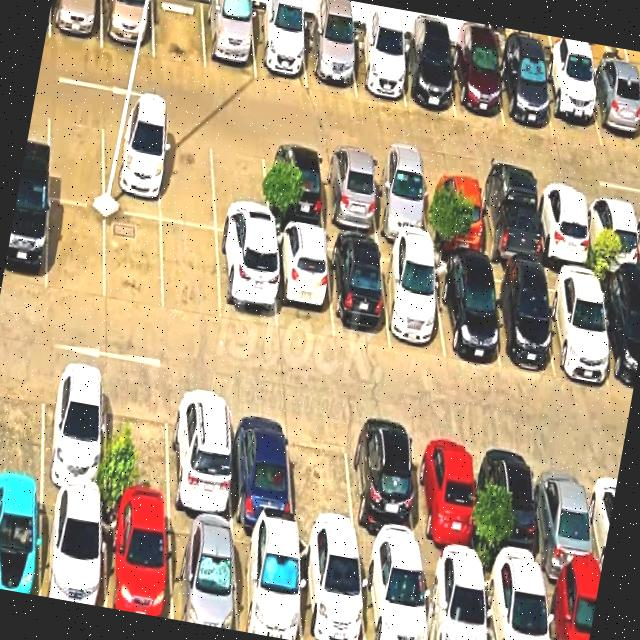empty: (288, 410, 356, 545), (106, 375, 170, 513), (211, 133, 268, 239), (47, 199, 105, 300), (161, 221, 220, 320), (160, 124, 215, 228), (106, 211, 162, 313), (48, 103, 103, 206), (0, 356, 43, 487), (153, 0, 205, 68)
occupied: (346, 420, 419, 556), (411, 429, 477, 567), (534, 449, 599, 584), (41, 362, 104, 500), (169, 386, 232, 523), (229, 398, 293, 531), (482, 439, 543, 575), (168, 515, 237, 630), (104, 503, 171, 619), (543, 270, 611, 384), (233, 527, 301, 640), (432, 257, 499, 368), (40, 491, 104, 607), (379, 246, 444, 358), (485, 265, 553, 372), (298, 537, 365, 640), (327, 236, 389, 345), (272, 227, 332, 338), (102, 113, 160, 219), (359, 550, 427, 640), (476, 177, 540, 268), (216, 233, 276, 330), (263, 142, 324, 231), (421, 558, 487, 640), (423, 168, 484, 256), (369, 158, 429, 244), (540, 62, 601, 146), (319, 151, 378, 237), (534, 185, 592, 271), (597, 278, 640, 394), (482, 567, 548, 640), (584, 192, 640, 278), (497, 51, 553, 137), (2, 189, 48, 291), (0, 485, 42, 595), (585, 69, 640, 153), (449, 44, 504, 126), (398, 39, 455, 117), (251, 9, 306, 87), (349, 30, 405, 106), (202, 0, 255, 79), (303, 22, 355, 95), (543, 576, 599, 640), (101, 0, 153, 57), (49, 0, 101, 47)
